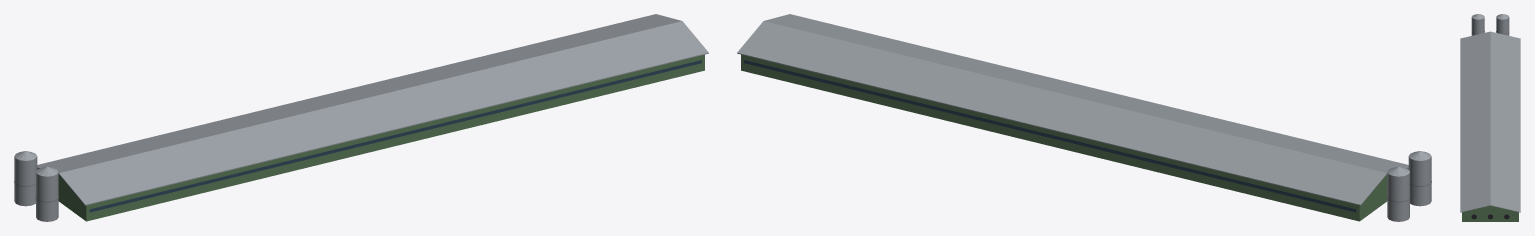
Rendered from poulailler.glb.
The picture shows the model from 3 angles, left to right: view 1: azimuth 30°, elevation 25°; view 2: azimuth 150°, elevation 25°; view 3: azimuth 270°, elevation 25°; orthographic projection. The views are drawn at different scales.
Visible parts, largest first — view 1: poulailler; view 2: poulailler; view 3: poulailler.
Boxes of the visible parts, x1,y1,x2,y2 form: poulailler: [14, 14, 708, 221]; poulailler: [737, 14, 1431, 221]; poulailler: [1460, 14, 1520, 221].
Size of the model in its own units: 106 by 7.8 by 14.8.
Materials: 1 (1 with a texture image).
